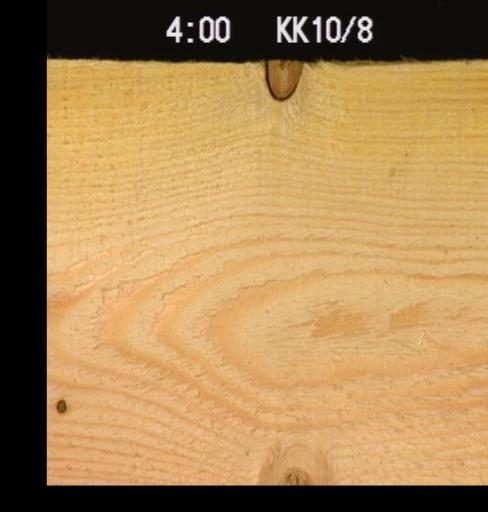dry_knot: (52, 394, 67, 415)
edge_knot: (252, 449, 336, 484), (260, 58, 302, 101)
